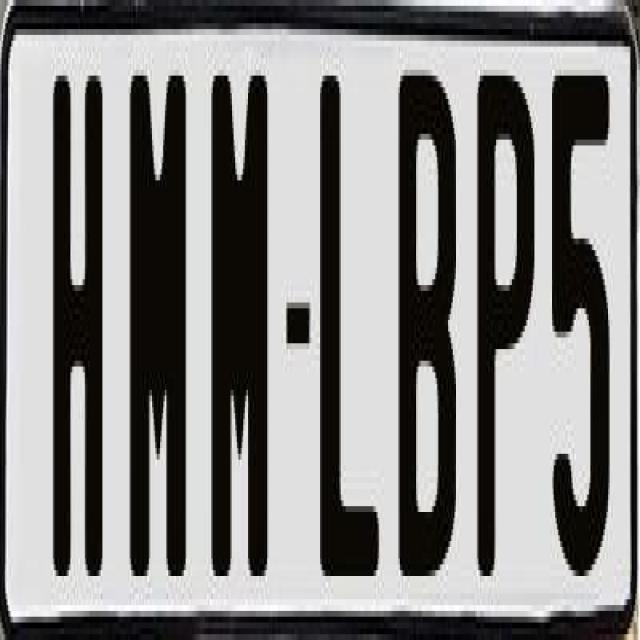5: (550, 64, 612, 582)
B: (398, 76, 462, 582)
H: (52, 76, 110, 576)
L: (317, 64, 382, 582)
M: (126, 58, 189, 559), (211, 63, 267, 564)
P: (474, 70, 540, 588)
